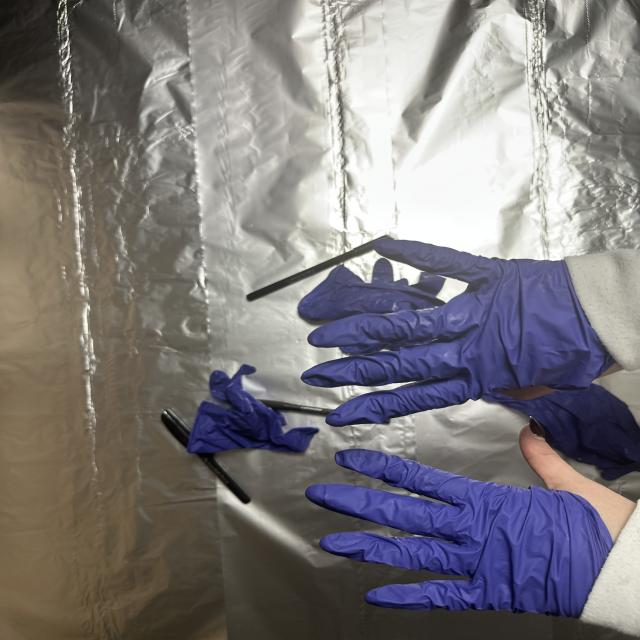glove_partial: (305, 417, 640, 618), (300, 236, 630, 426)
